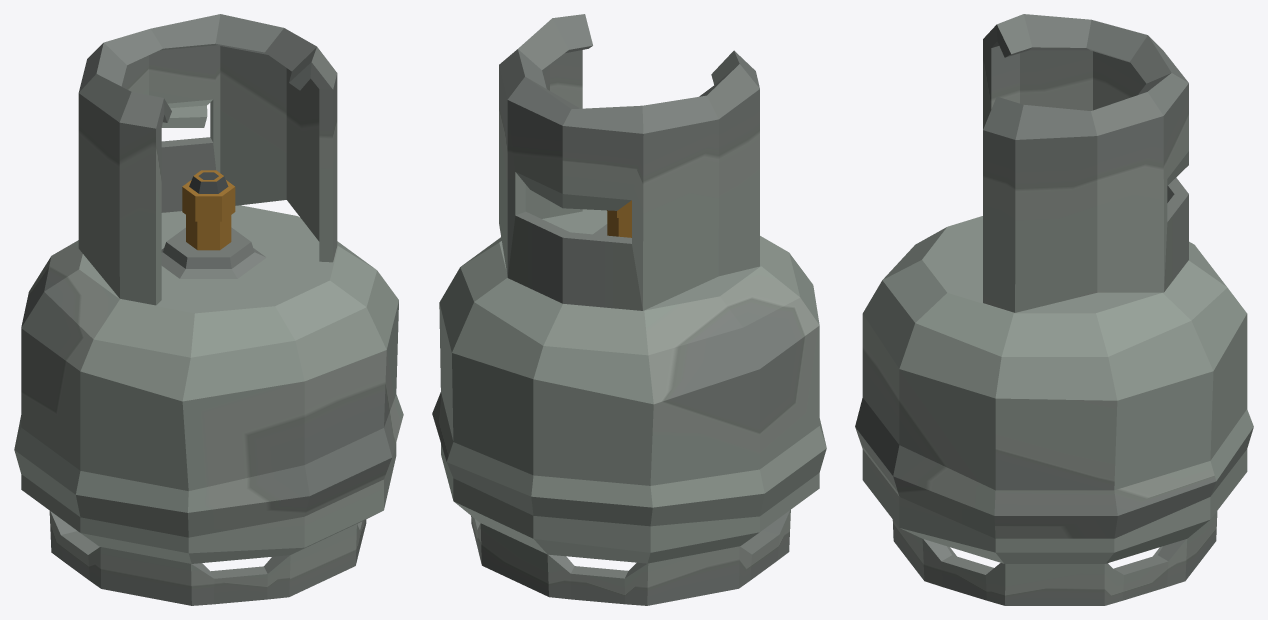
The model's file is SM_Barrel_B_02.fbx.
The picture shows the model from 3 angles, left to right: view 1: azimuth 30°, elevation 25°; view 2: azimuth 150°, elevation 25°; view 3: azimuth 270°, elevation 25°; orthographic projection.
Visible parts, largest first — view 1: SM_Barrel_B_02; view 2: SM_Barrel_B_02; view 3: SM_Barrel_B_02.
Part boxes in pixels (x1,y1,x2,y2): SM_Barrel_B_02: (14, 14, 403, 605); SM_Barrel_B_02: (432, 14, 826, 605); SM_Barrel_B_02: (855, 14, 1253, 605).
Bounding box in the file's own units: 36.62 × 51.39 × 38.39.
